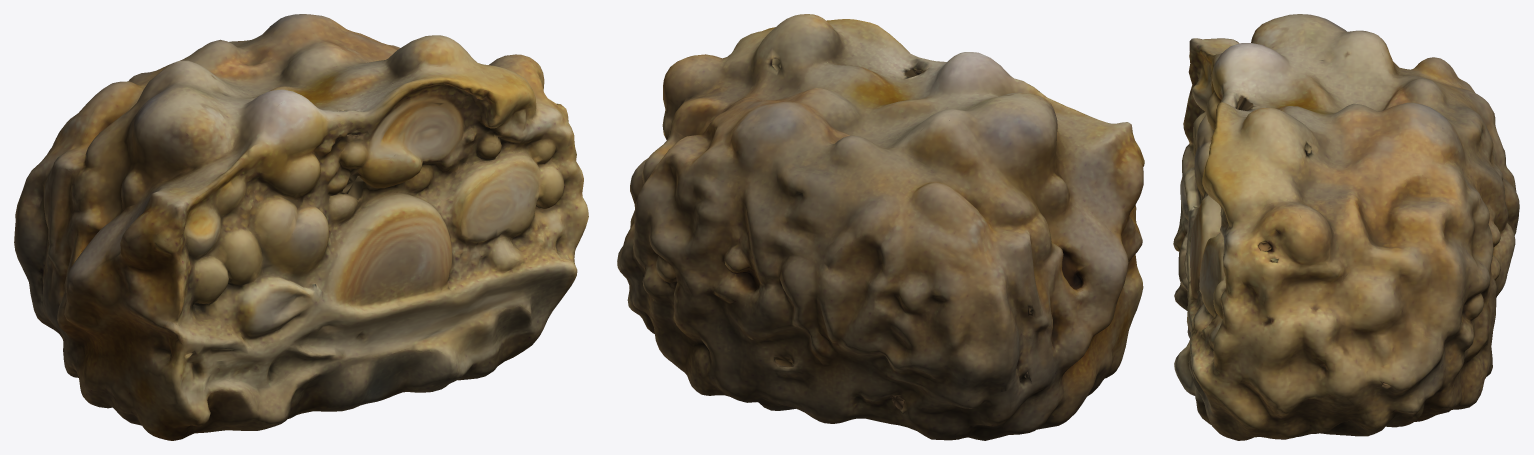
3 renders of one model, left to right at view 1: azimuth 30°, elevation 25°; view 2: azimuth 150°, elevation 25°; view 3: azimuth 270°, elevation 25°, orthographic. The views are drawn at different scales.
Visible parts, largest first — view 1: geometry_0; view 2: geometry_0; view 3: geometry_0.
Boxes of the visible parts, <box> form: geometry_0: <box>14,14,588,440</box>; geometry_0: <box>617,14,1144,440</box>; geometry_0: <box>1173,14,1519,440</box>.
Bounding box in the file's own units: 0.35 × 0.224 × 0.2278.
1 material, 1 textured.
